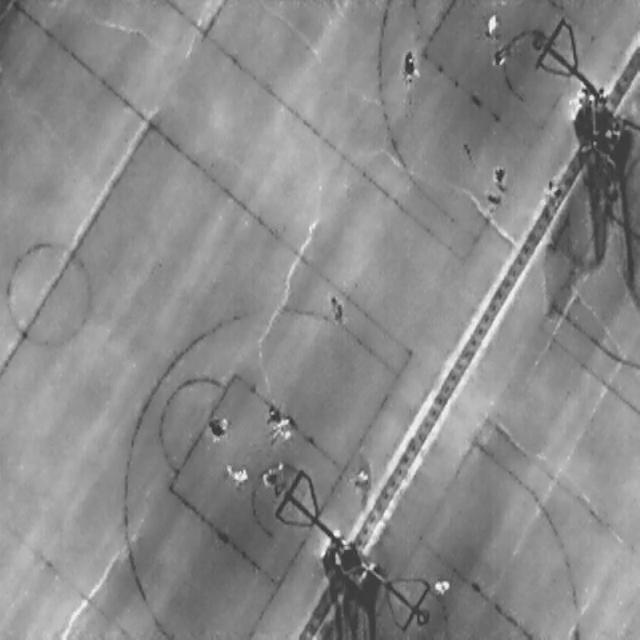Person: (225, 462, 249, 492), (207, 411, 225, 445), (262, 462, 280, 490), (405, 50, 418, 88), (352, 465, 369, 493), (328, 292, 342, 324), (486, 9, 500, 39), (485, 189, 500, 216), (494, 162, 506, 194), (265, 401, 280, 425), (434, 579, 451, 595)
